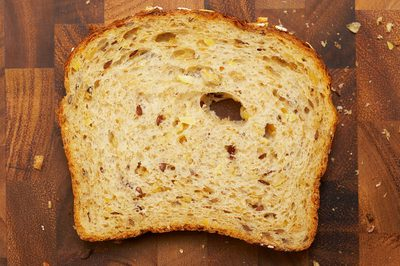slice of bread: (59, 5, 337, 252)
